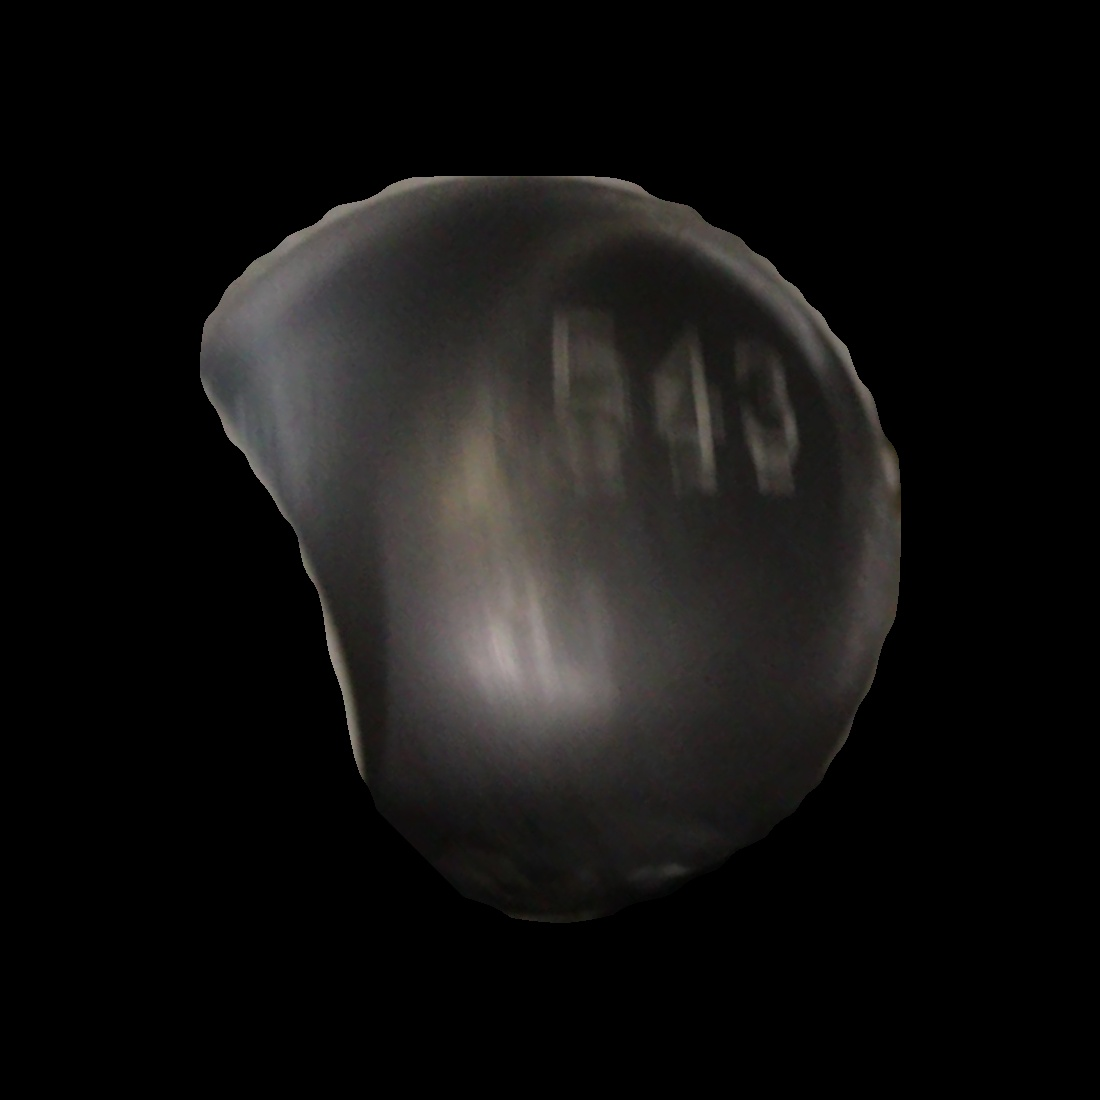digits: (536, 302, 805, 497)
